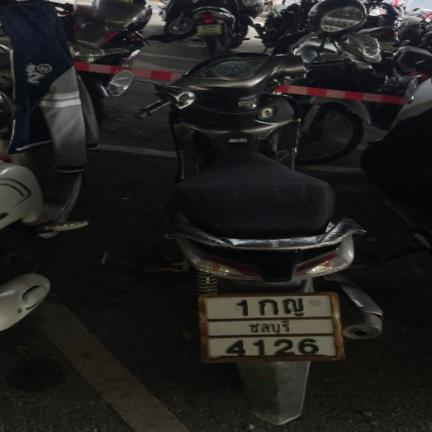1: (232, 299, 251, 317), (251, 338, 268, 356)
2: (273, 338, 296, 357)
4: (224, 339, 248, 356)
6: (297, 337, 322, 355)
A01: (257, 299, 281, 317)
A13: (281, 297, 306, 317)
CBI: (247, 321, 293, 335)
